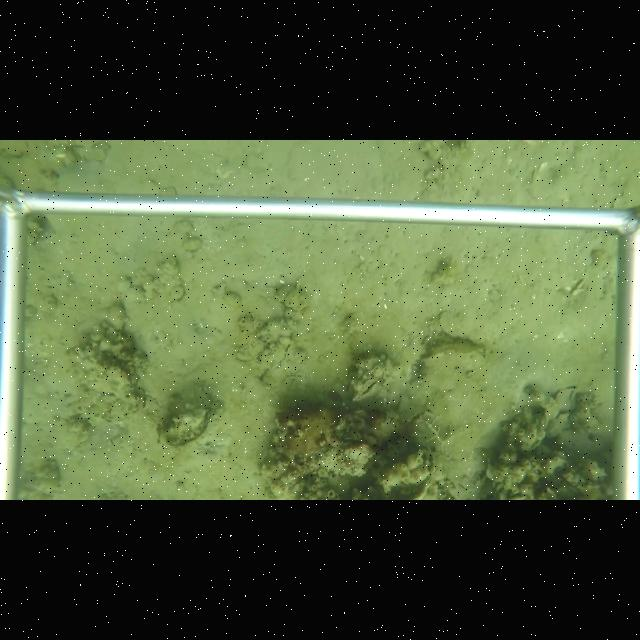Oyster-Closed: (154, 407, 214, 450), (258, 337, 296, 385)
Oyster-Open: (350, 375, 384, 404)
